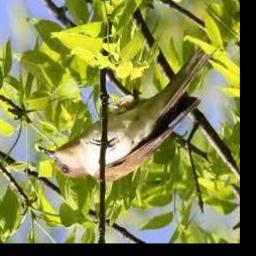Cuckoo: (38, 31, 218, 181)
